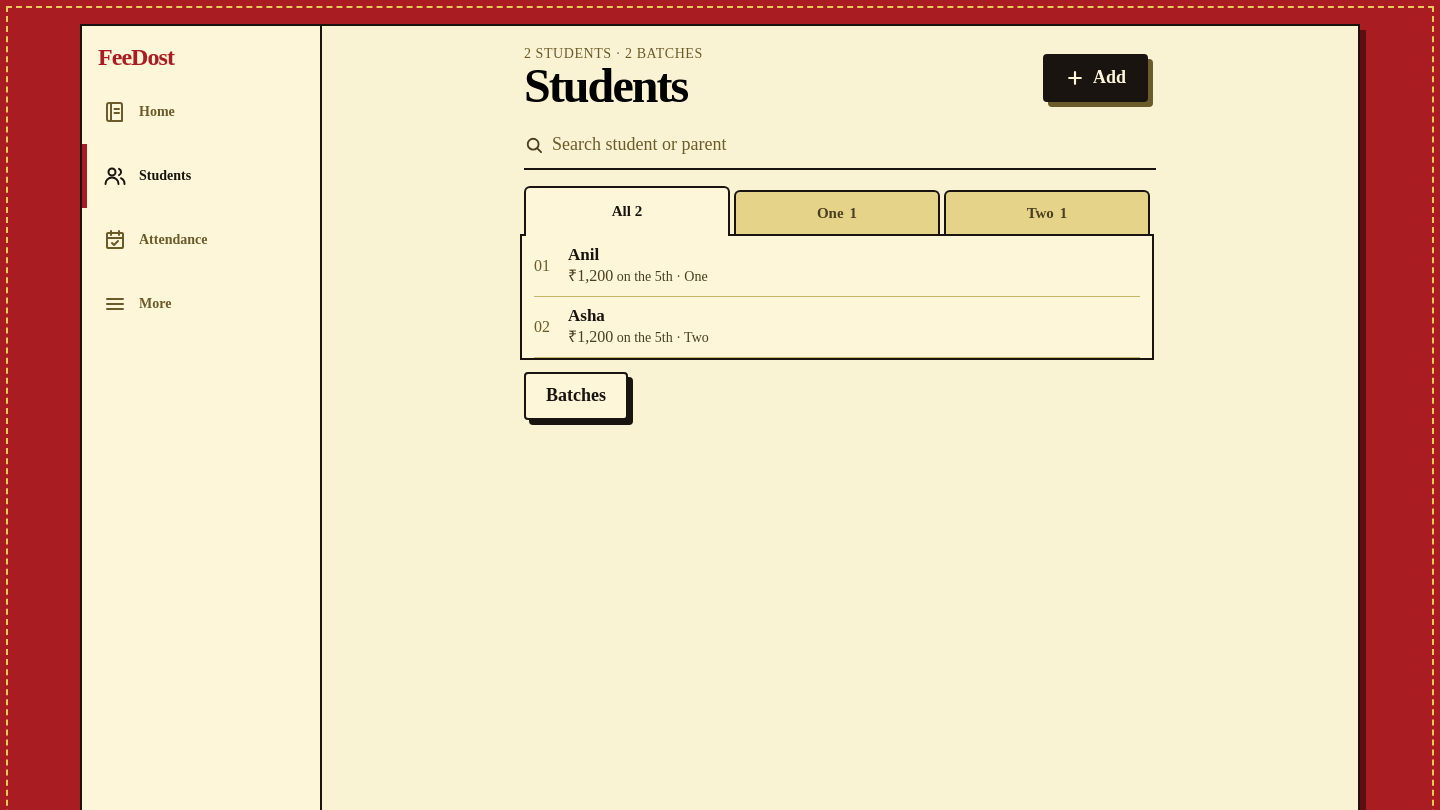
the batch filter (8, 9) › combines with the search
Click the tab "One 1".
click(837, 212)  # box [734,190,940,234]
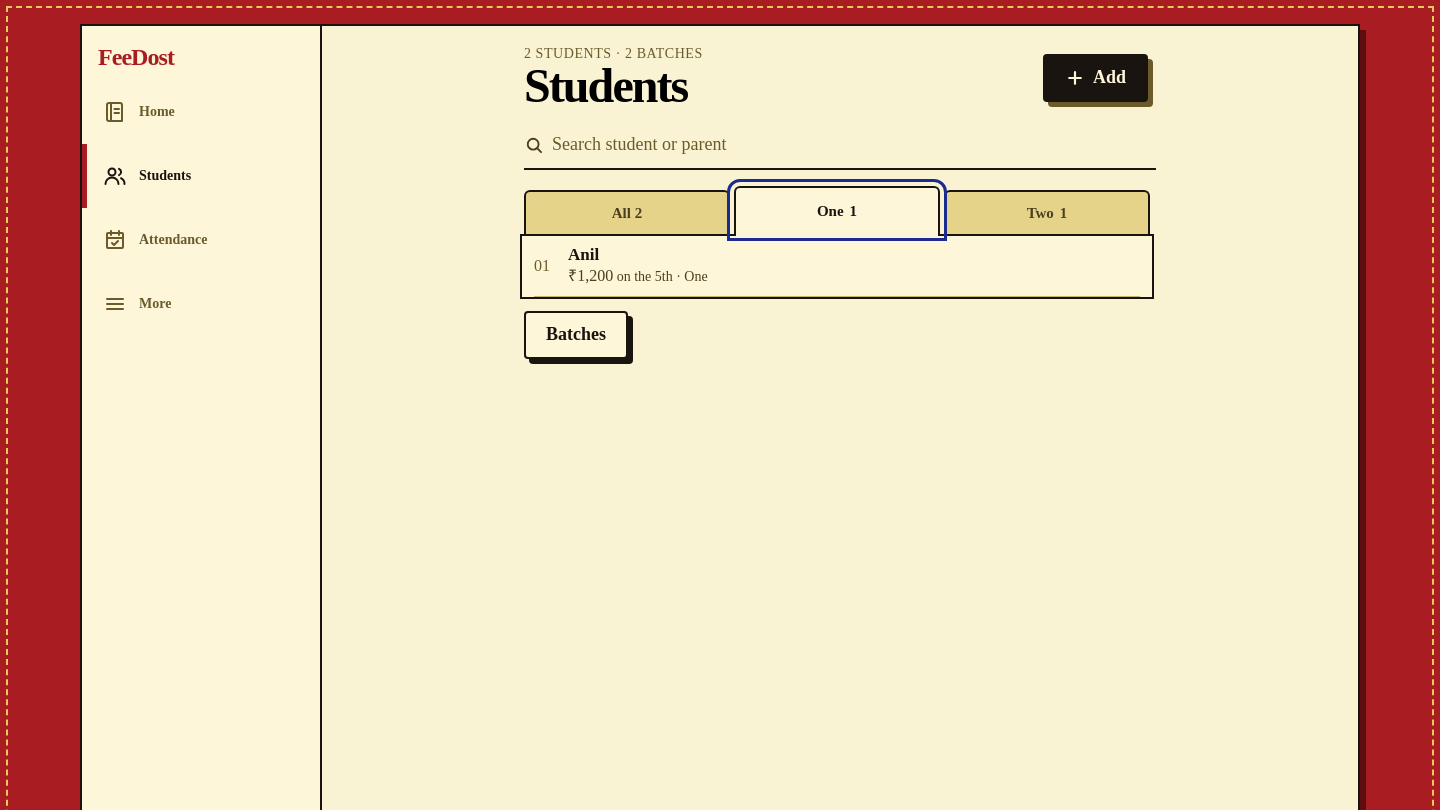
Type "as" into the field labelled "Search student or parent".
click(854, 145); type("as")  # box [552,123,1156,167]
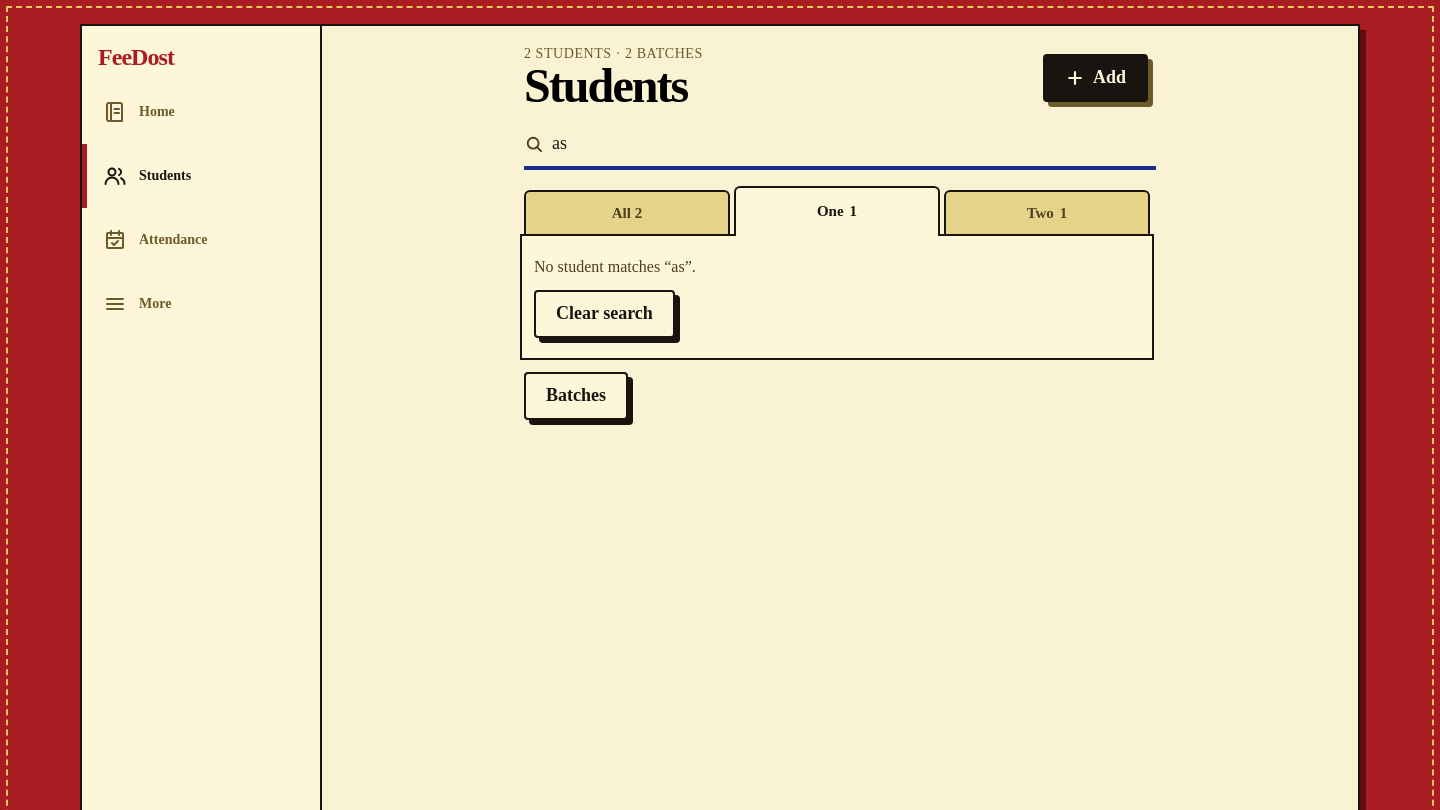
Check: the text "No student matches “as”." is shown, box [534,256,696,278]
